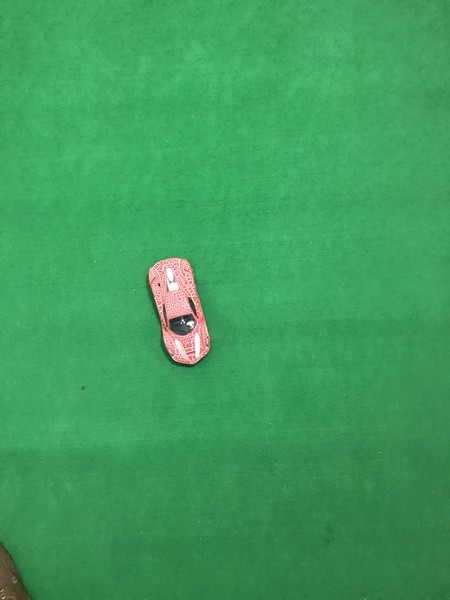RC: (146, 255, 214, 367)
